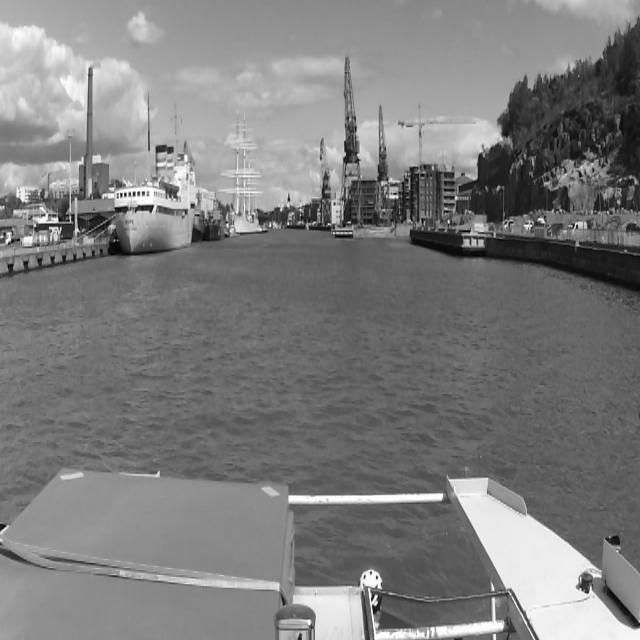ship: (116, 145, 196, 251), (217, 116, 259, 230), (206, 217, 220, 242), (193, 213, 204, 241)
